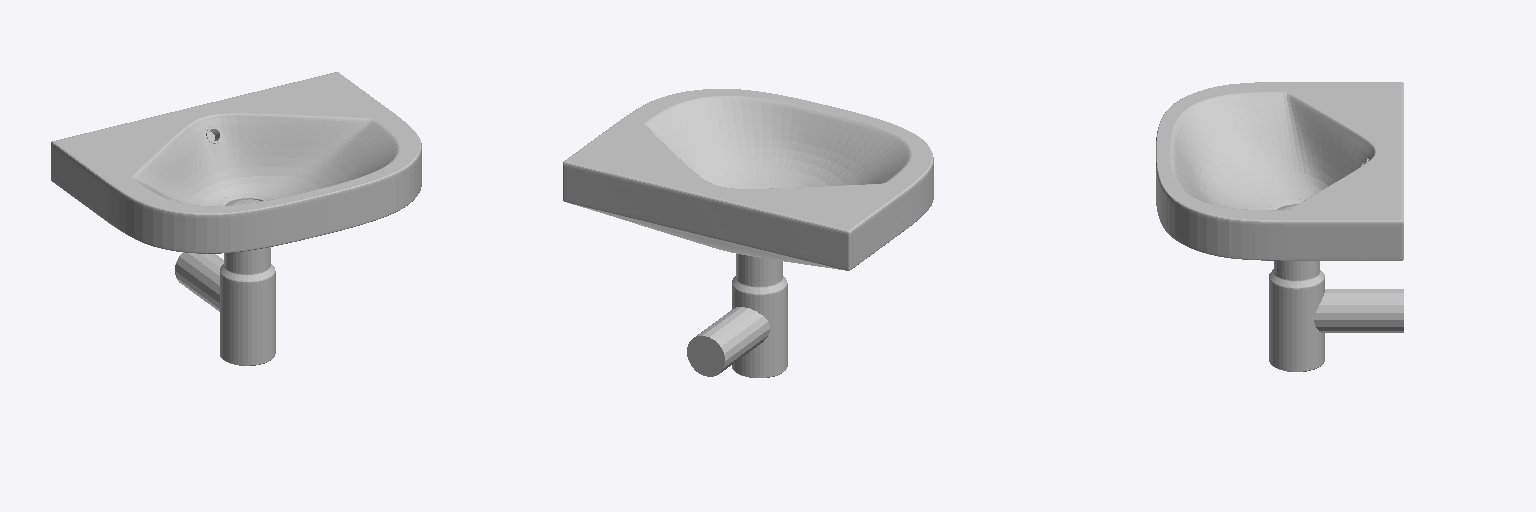
File: washbasin-01.obj
3 views of the same model, side by side, from view 1: azimuth 30°, elevation 25°; view 2: azimuth 150°, elevation 25°; view 3: azimuth 270°, elevation 25° (orthographic).
Parts seen in each view (by area): view 1: washbasin_01; view 2: washbasin_01; view 3: washbasin_01.
Part boxes in pixels (left/top/right/bottom): washbasin_01: left=51, top=72, right=421, bottom=365; washbasin_01: left=563, top=89, right=933, bottom=377; washbasin_01: left=1156, top=82, right=1403, bottom=371.
Size of the model in its own units: 35.67 by 24.88 by 26.69.